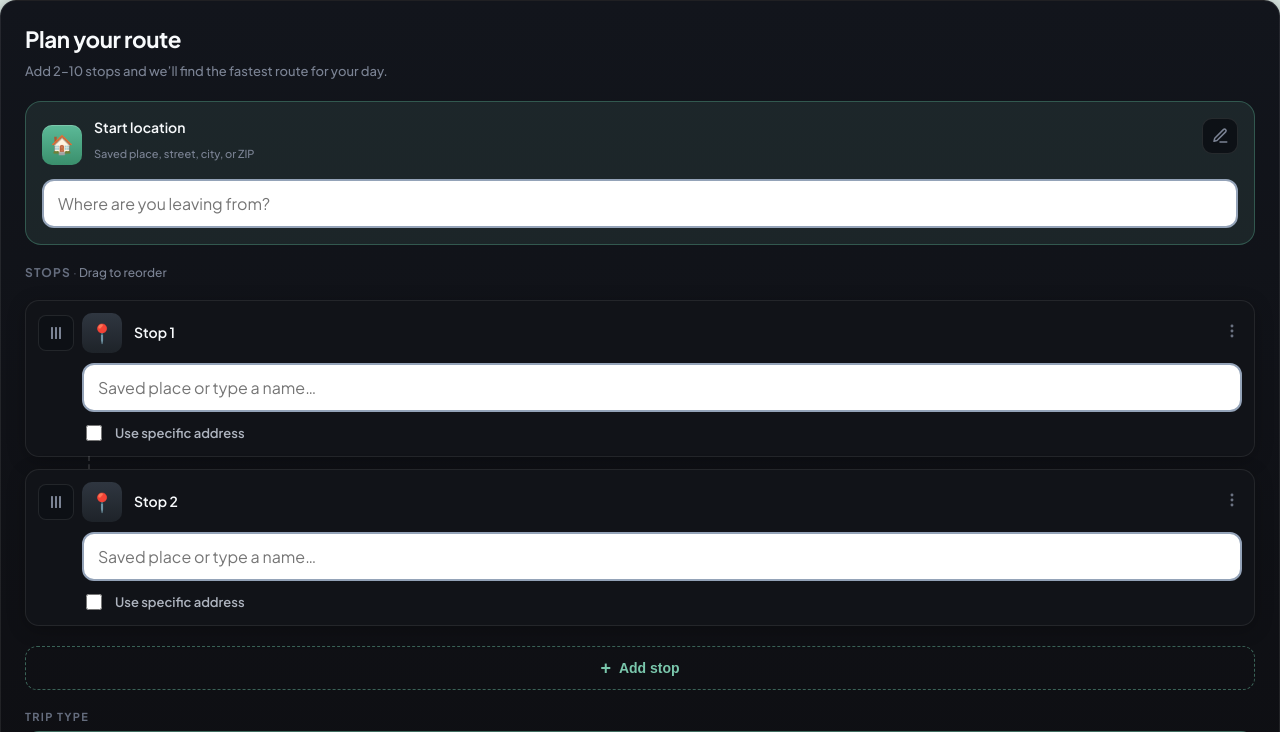
Test case: RouteBuilderPanel › saved place used as a stop is omitted from the start saved list
Focus the field named "Stop 1 store or place name": (662,388) [82, 363, 1242, 412]
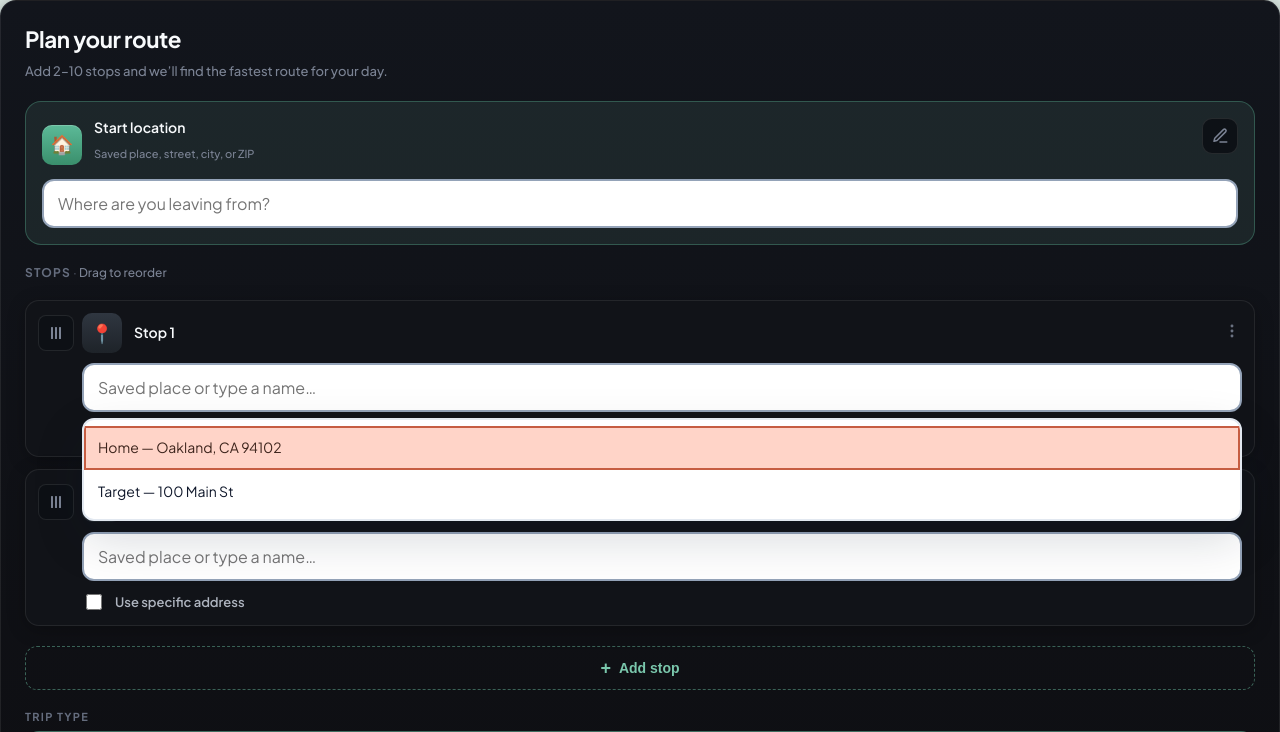
Press the mouse on the option "Target — 100 Main St": (166,491) [98, 482, 234, 500]
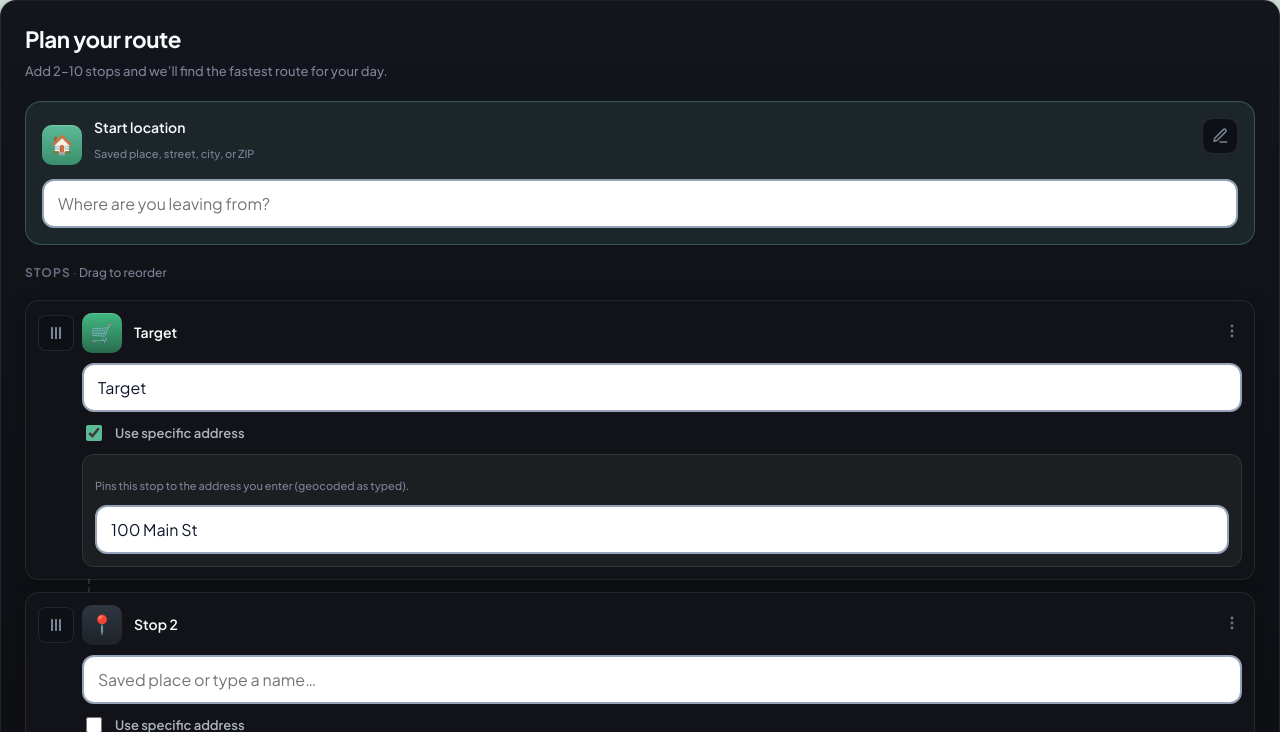
Focus the field named "origin-place-input": (640,204) [42, 179, 1238, 228]
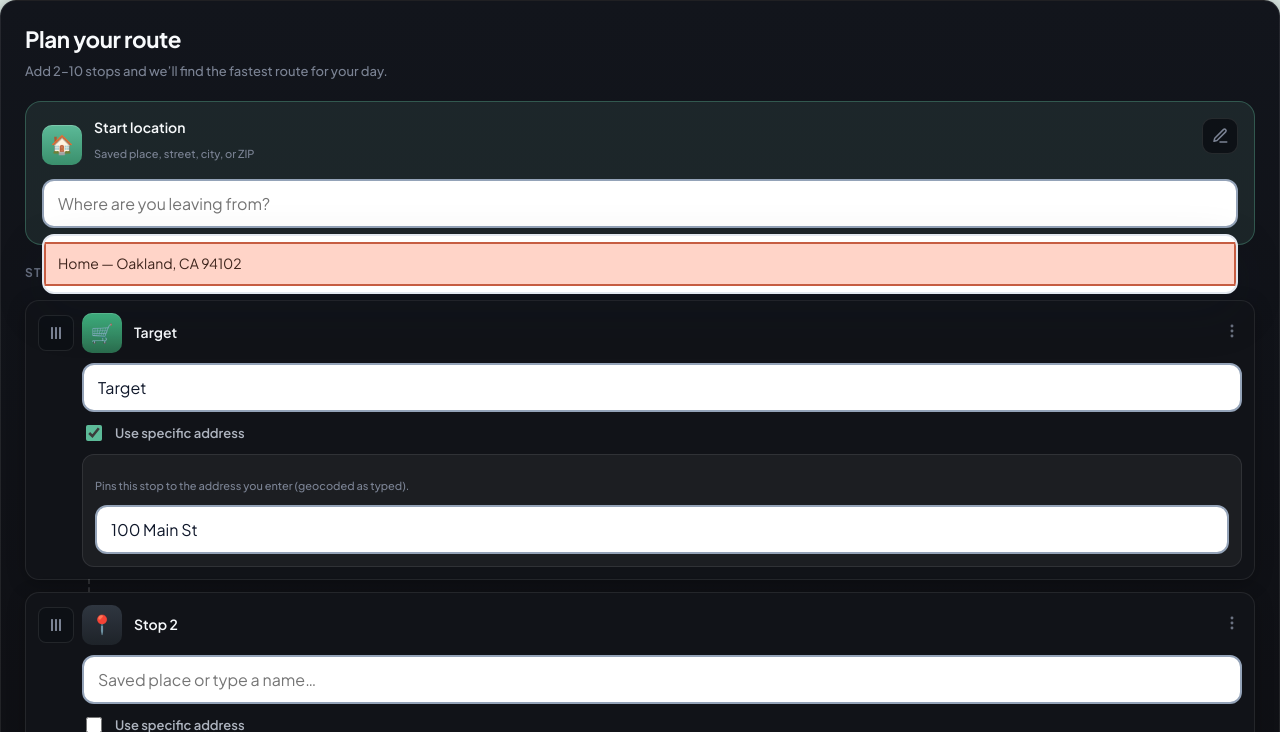
Expected: the list is shown, [42, 234, 1238, 294]
